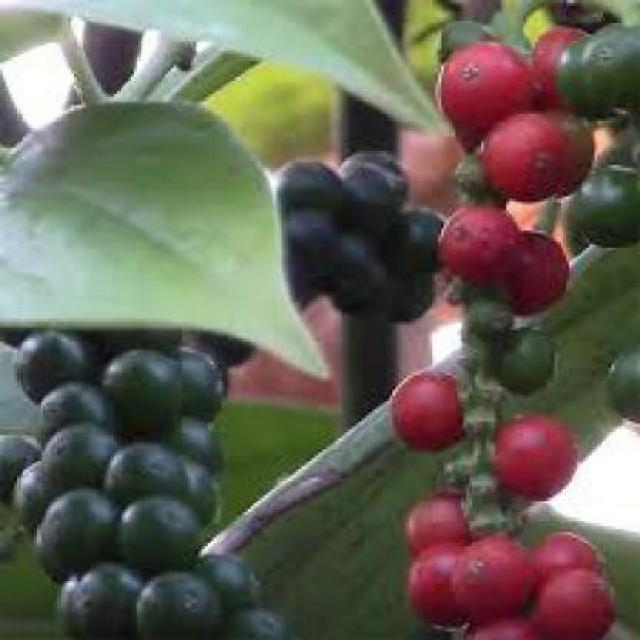RIPE: (390, 31, 608, 637)
UNRIPE: (0, 333, 285, 632), (262, 151, 436, 322), (583, 0, 639, 237)
